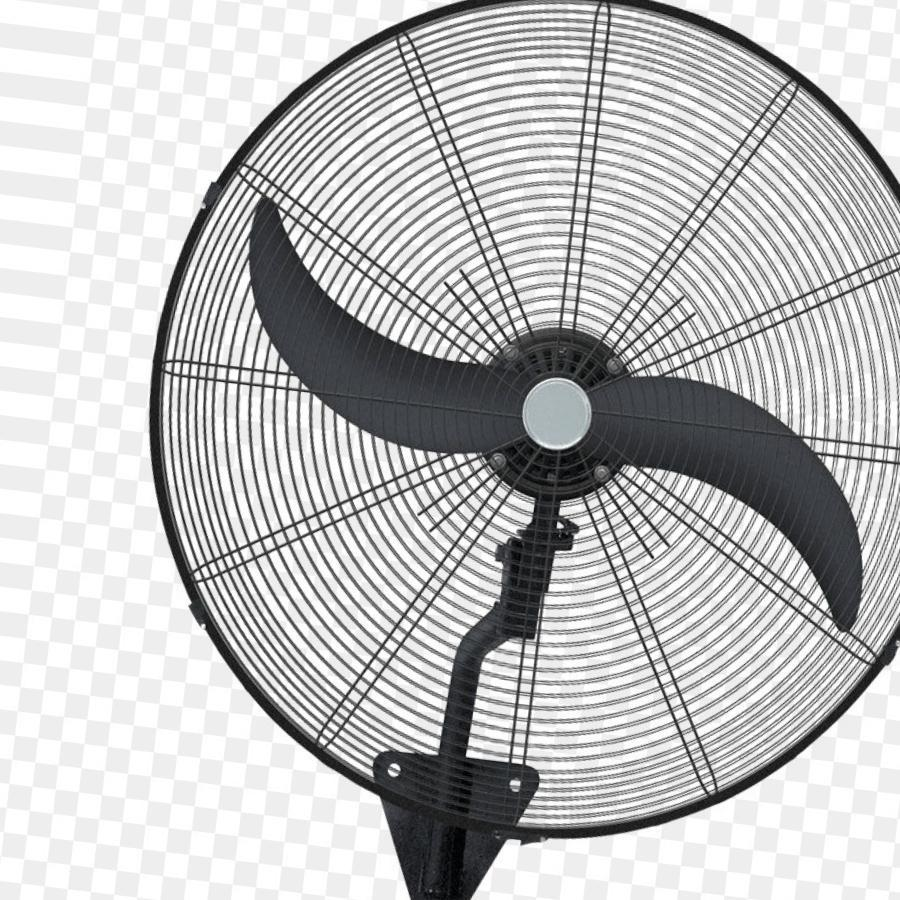fan: (138, 0, 897, 900)
